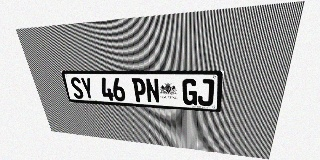4: (99, 77, 114, 101)
6: (111, 78, 126, 101)
G: (182, 79, 198, 105)
J: (197, 79, 214, 106)
N: (145, 78, 160, 103)
P: (132, 78, 147, 102)
S: (69, 77, 85, 99)
Y: (80, 77, 95, 100)
